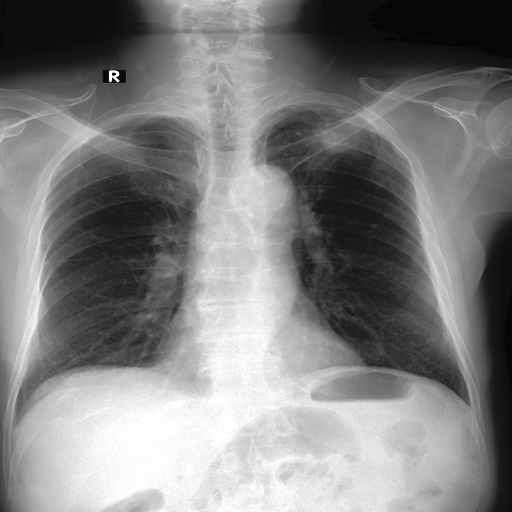Calcification: (108, 110, 186, 122), (256, 101, 326, 113)
Consolidation: (239, 164, 295, 210)
Pleural thickening: (321, 130, 352, 154)
Pneumothorax: (303, 146, 341, 187)
Pulmonary fibrosis: (322, 133, 352, 153), (369, 223, 378, 228), (296, 131, 301, 135)
